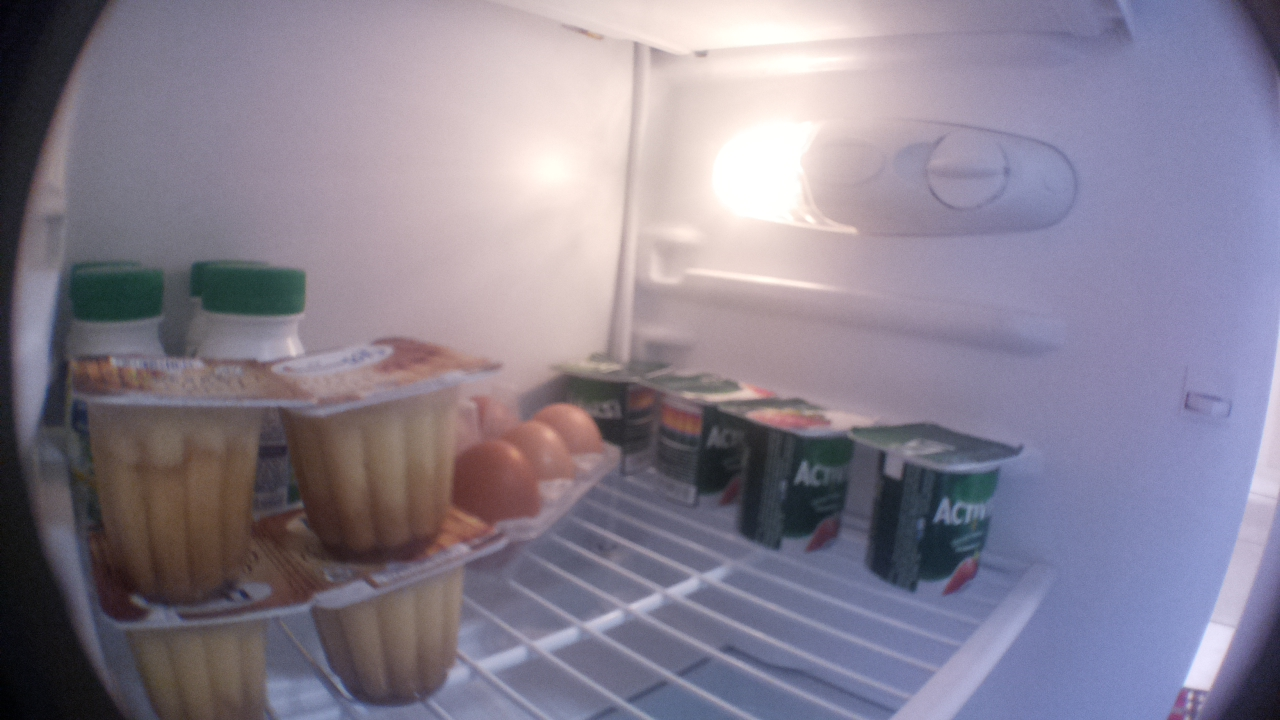caramel: (62, 352, 316, 600), (262, 330, 507, 561), (291, 521, 485, 710), (94, 576, 316, 719)
egg: (453, 437, 544, 521), (503, 417, 575, 498), (542, 404, 608, 484)
laban: (48, 260, 180, 356), (184, 261, 305, 360)
yoghurt: (842, 421, 1034, 600), (719, 377, 873, 567), (644, 362, 769, 512), (590, 343, 666, 487)
